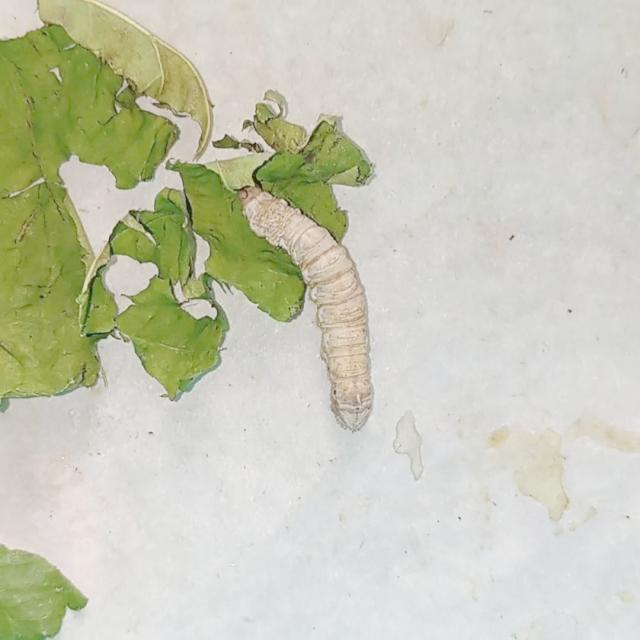Grasserie: (214, 165, 401, 442)
